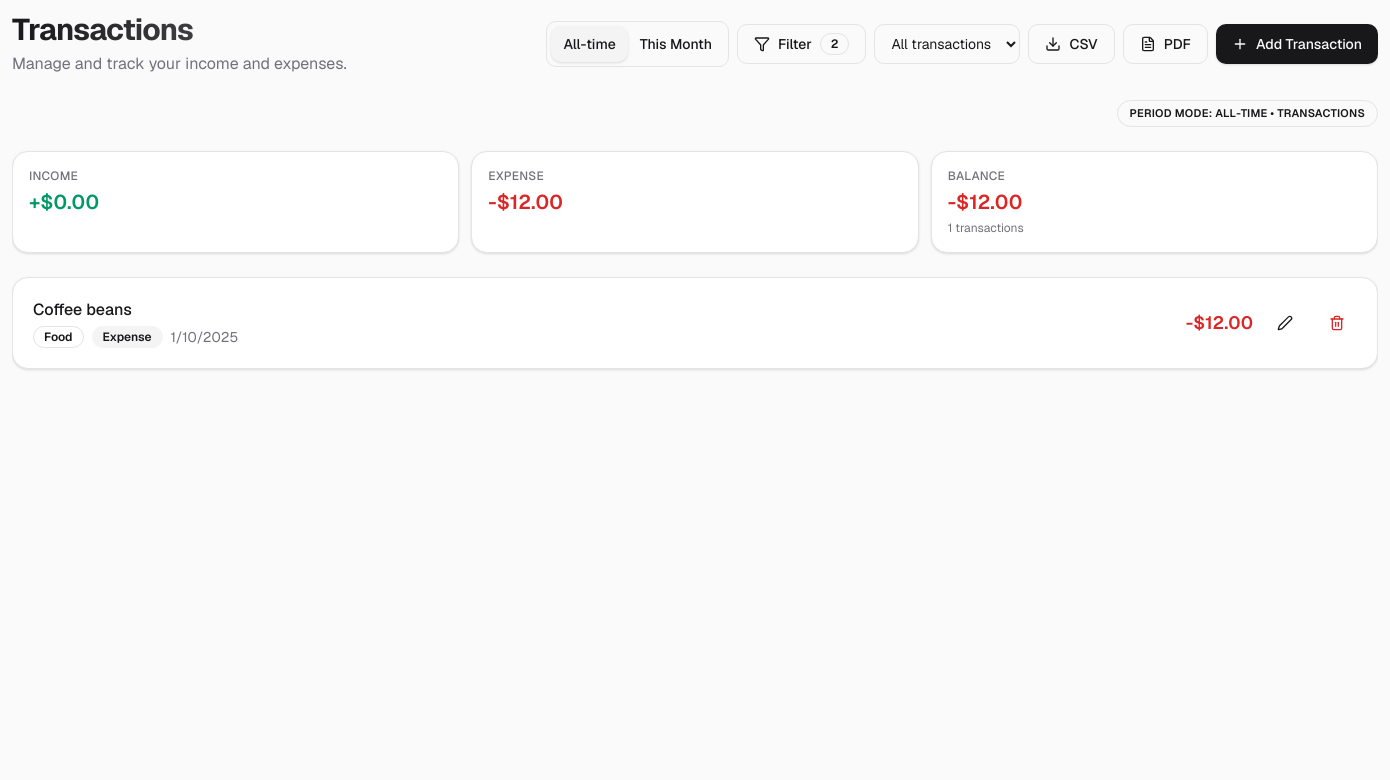
ExpensesPage › hydrates filters from URL params and reflects filtered count
The width and height of the screenshot is (1390, 780).
Click the button "Filter 2".
click(802, 44)  # box [737,24,866,64]
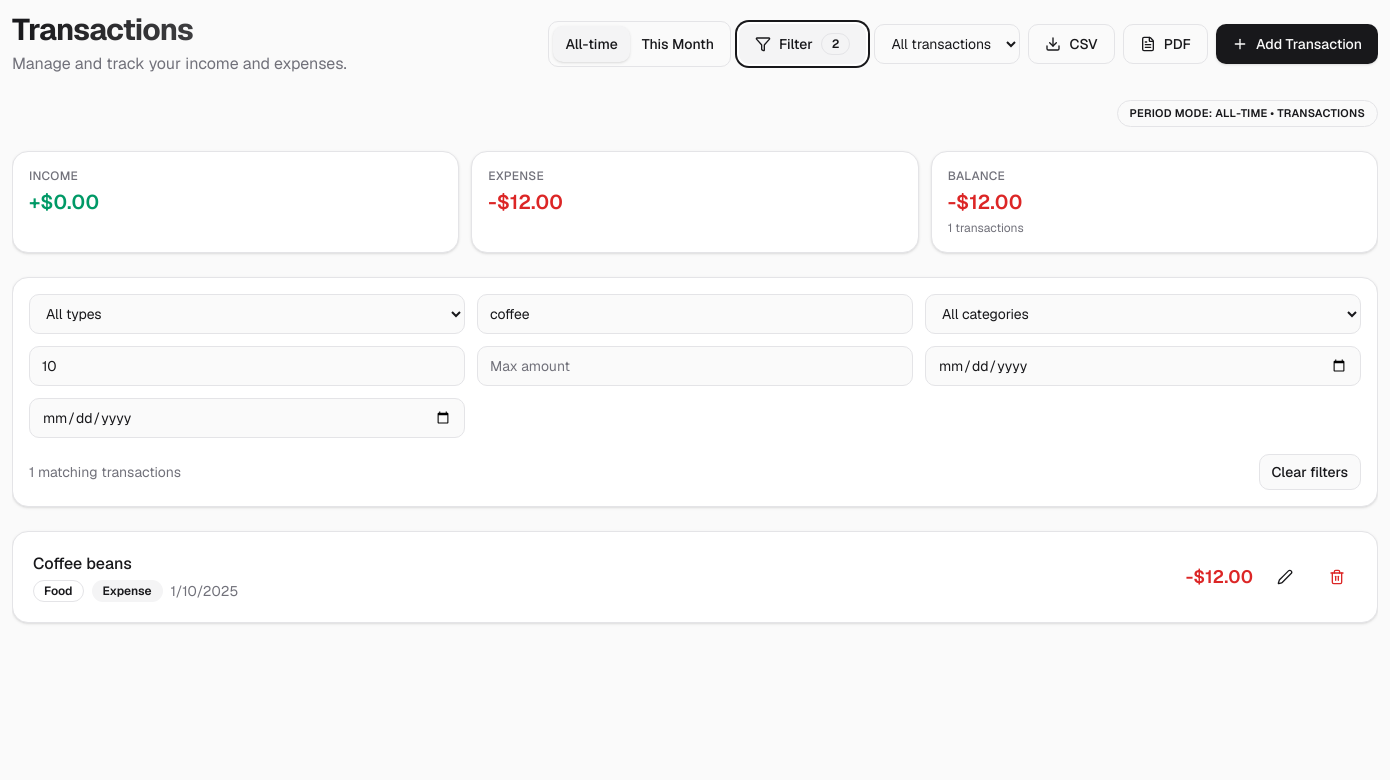
Now the field with placeholder "Search merchant or note" holds "coffee", box [477,294,913,334]
Now the number field with placeholder "Min amount" holds "10", box [29,346,465,386]
Now the text "1 matching transactions" is shown, box [29,462,181,482]
